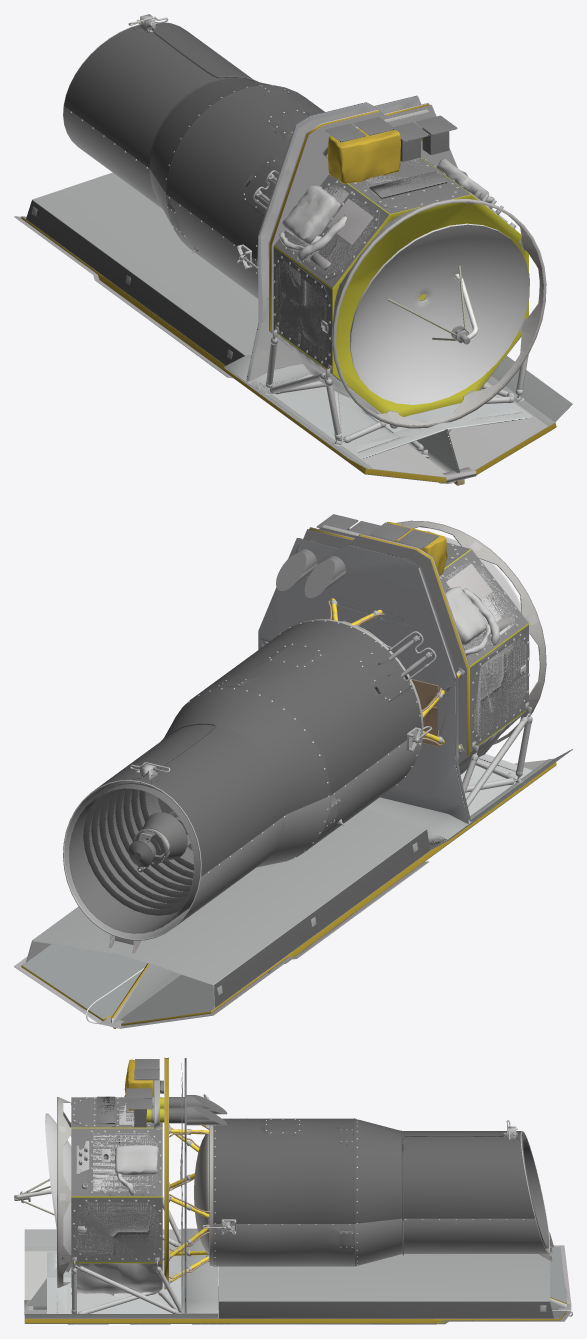
The model's file is SpitzerSpaceTelescope.fbx.
3 views of the same model, one above another, from view 1: azimuth 30°, elevation 25°; view 2: azimuth 150°, elevation 25°; view 3: azimuth 270°, elevation 25° (orthographic). The views are drawn at different scales.
Parts seen in each view (by area): view 1: imagetostl_mesh0; view 2: imagetostl_mesh0; view 3: imagetostl_mesh0.
Part boxes in pixels (x1=…): imagetostl_mesh0: x1=14, y1=14, x2=572, y2=485; imagetostl_mesh0: x1=14, y1=514, x2=572, y2=1028; imagetostl_mesh0: x1=14, y1=1057, x2=572, y2=1324.
Size of the model in its own units: 162 by 211 by 449.
